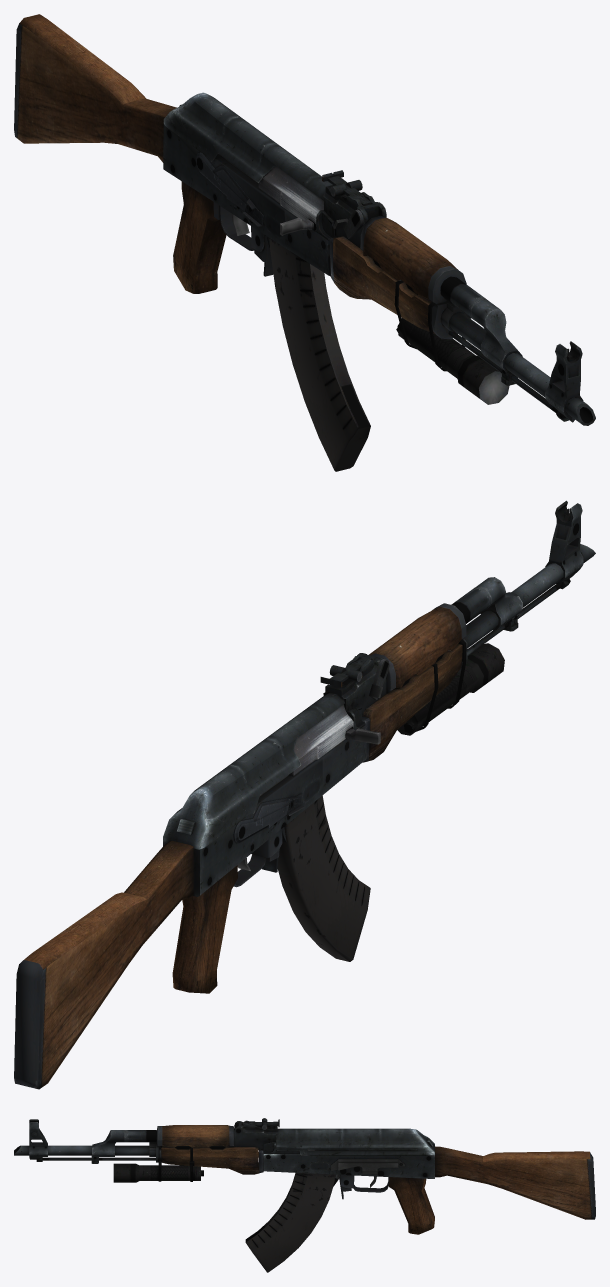
3 views of the same model, one above another, from view 1: azimuth 30°, elevation 25°; view 2: azimuth 150°, elevation 25°; view 3: azimuth 270°, elevation 25° (orthographic). The views are drawn at different scales.
Parts seen in each view (by area): view 1: ak-47-w_rdmobj00; view 2: ak-47-w_rdmobj00; view 3: ak-47-w_rdmobj00.
Boxes of the visible parts, x1,y1,x2,y2 form: ak-47-w_rdmobj00: (14, 14, 595, 471); ak-47-w_rdmobj00: (14, 500, 595, 1089); ak-47-w_rdmobj00: (14, 1118, 595, 1272).
Bounding box in the file's own units: 3.63 × 11.1 × 38.93.
Materials: 1 (1 with a texture image).
